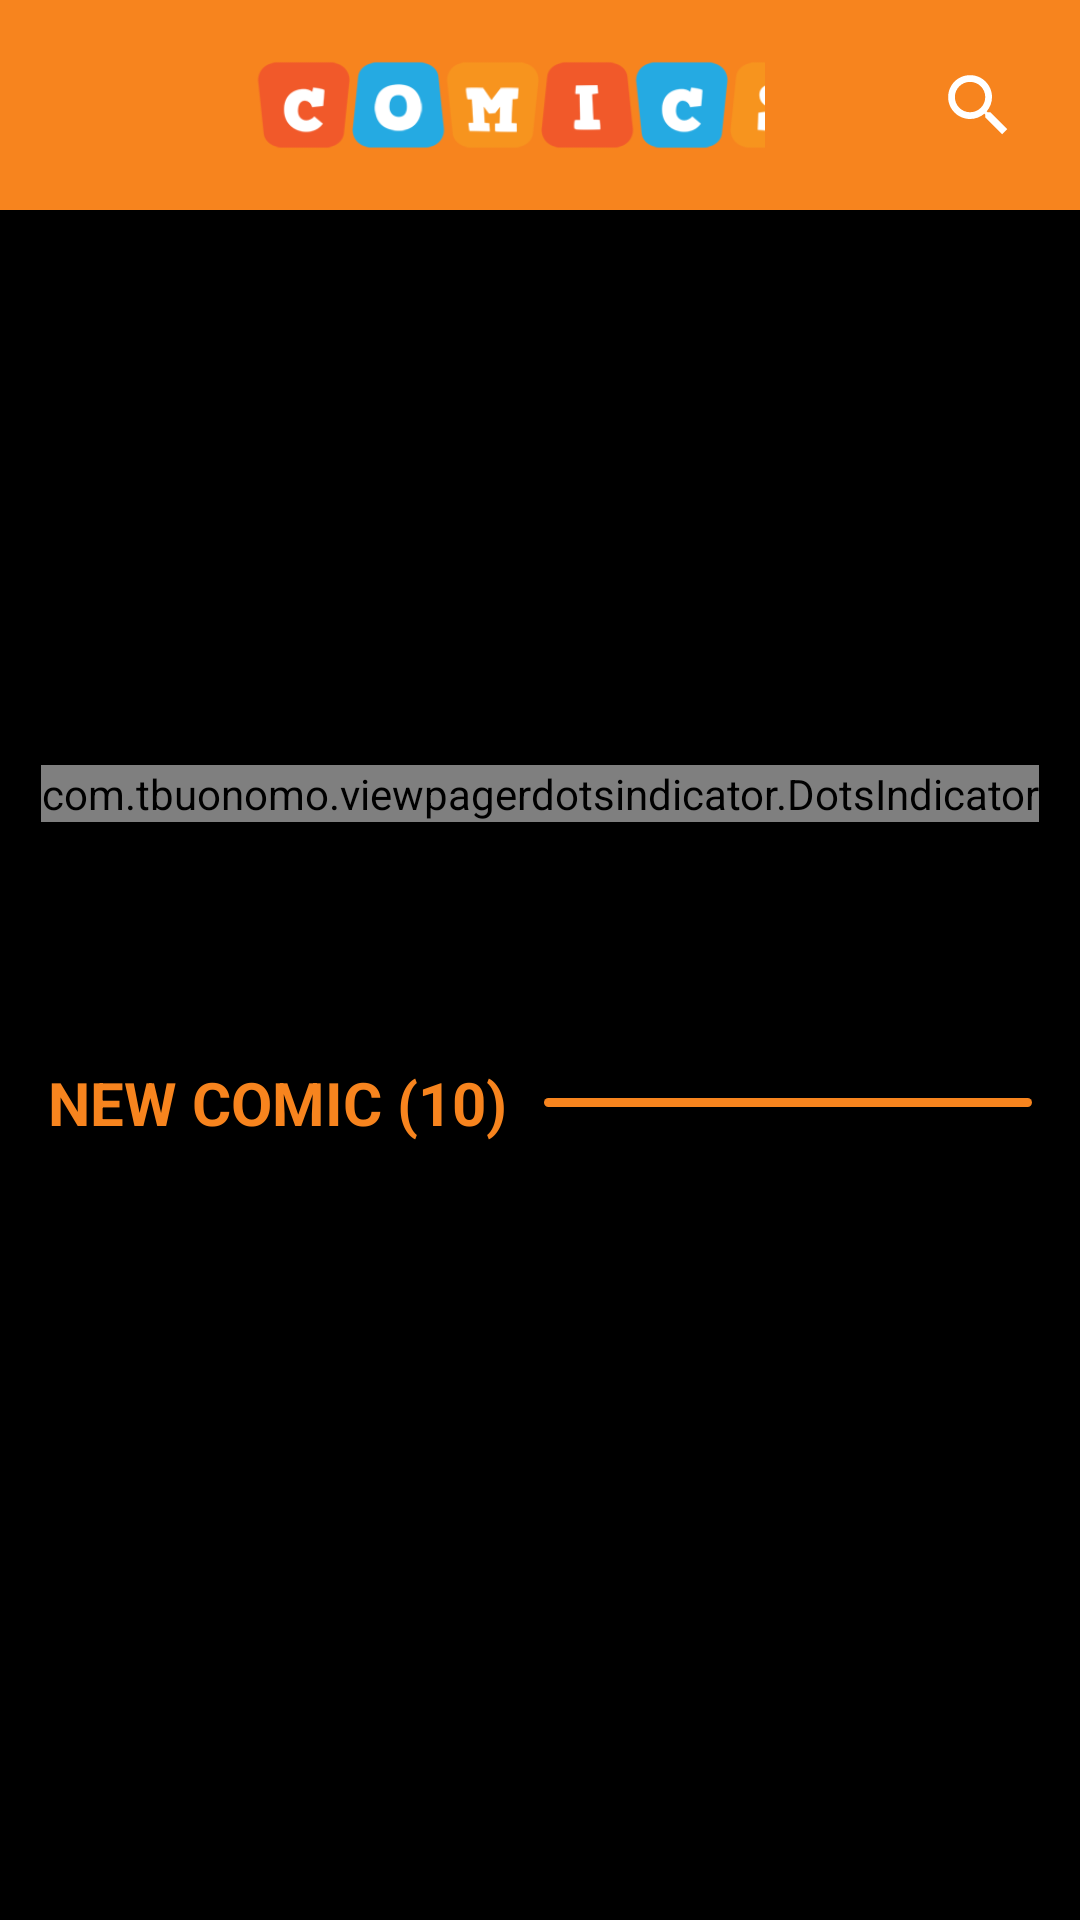

Named icons in this screenshot (1080w x 1920h) and their centers, point (x, y):
search: point (977, 104)
